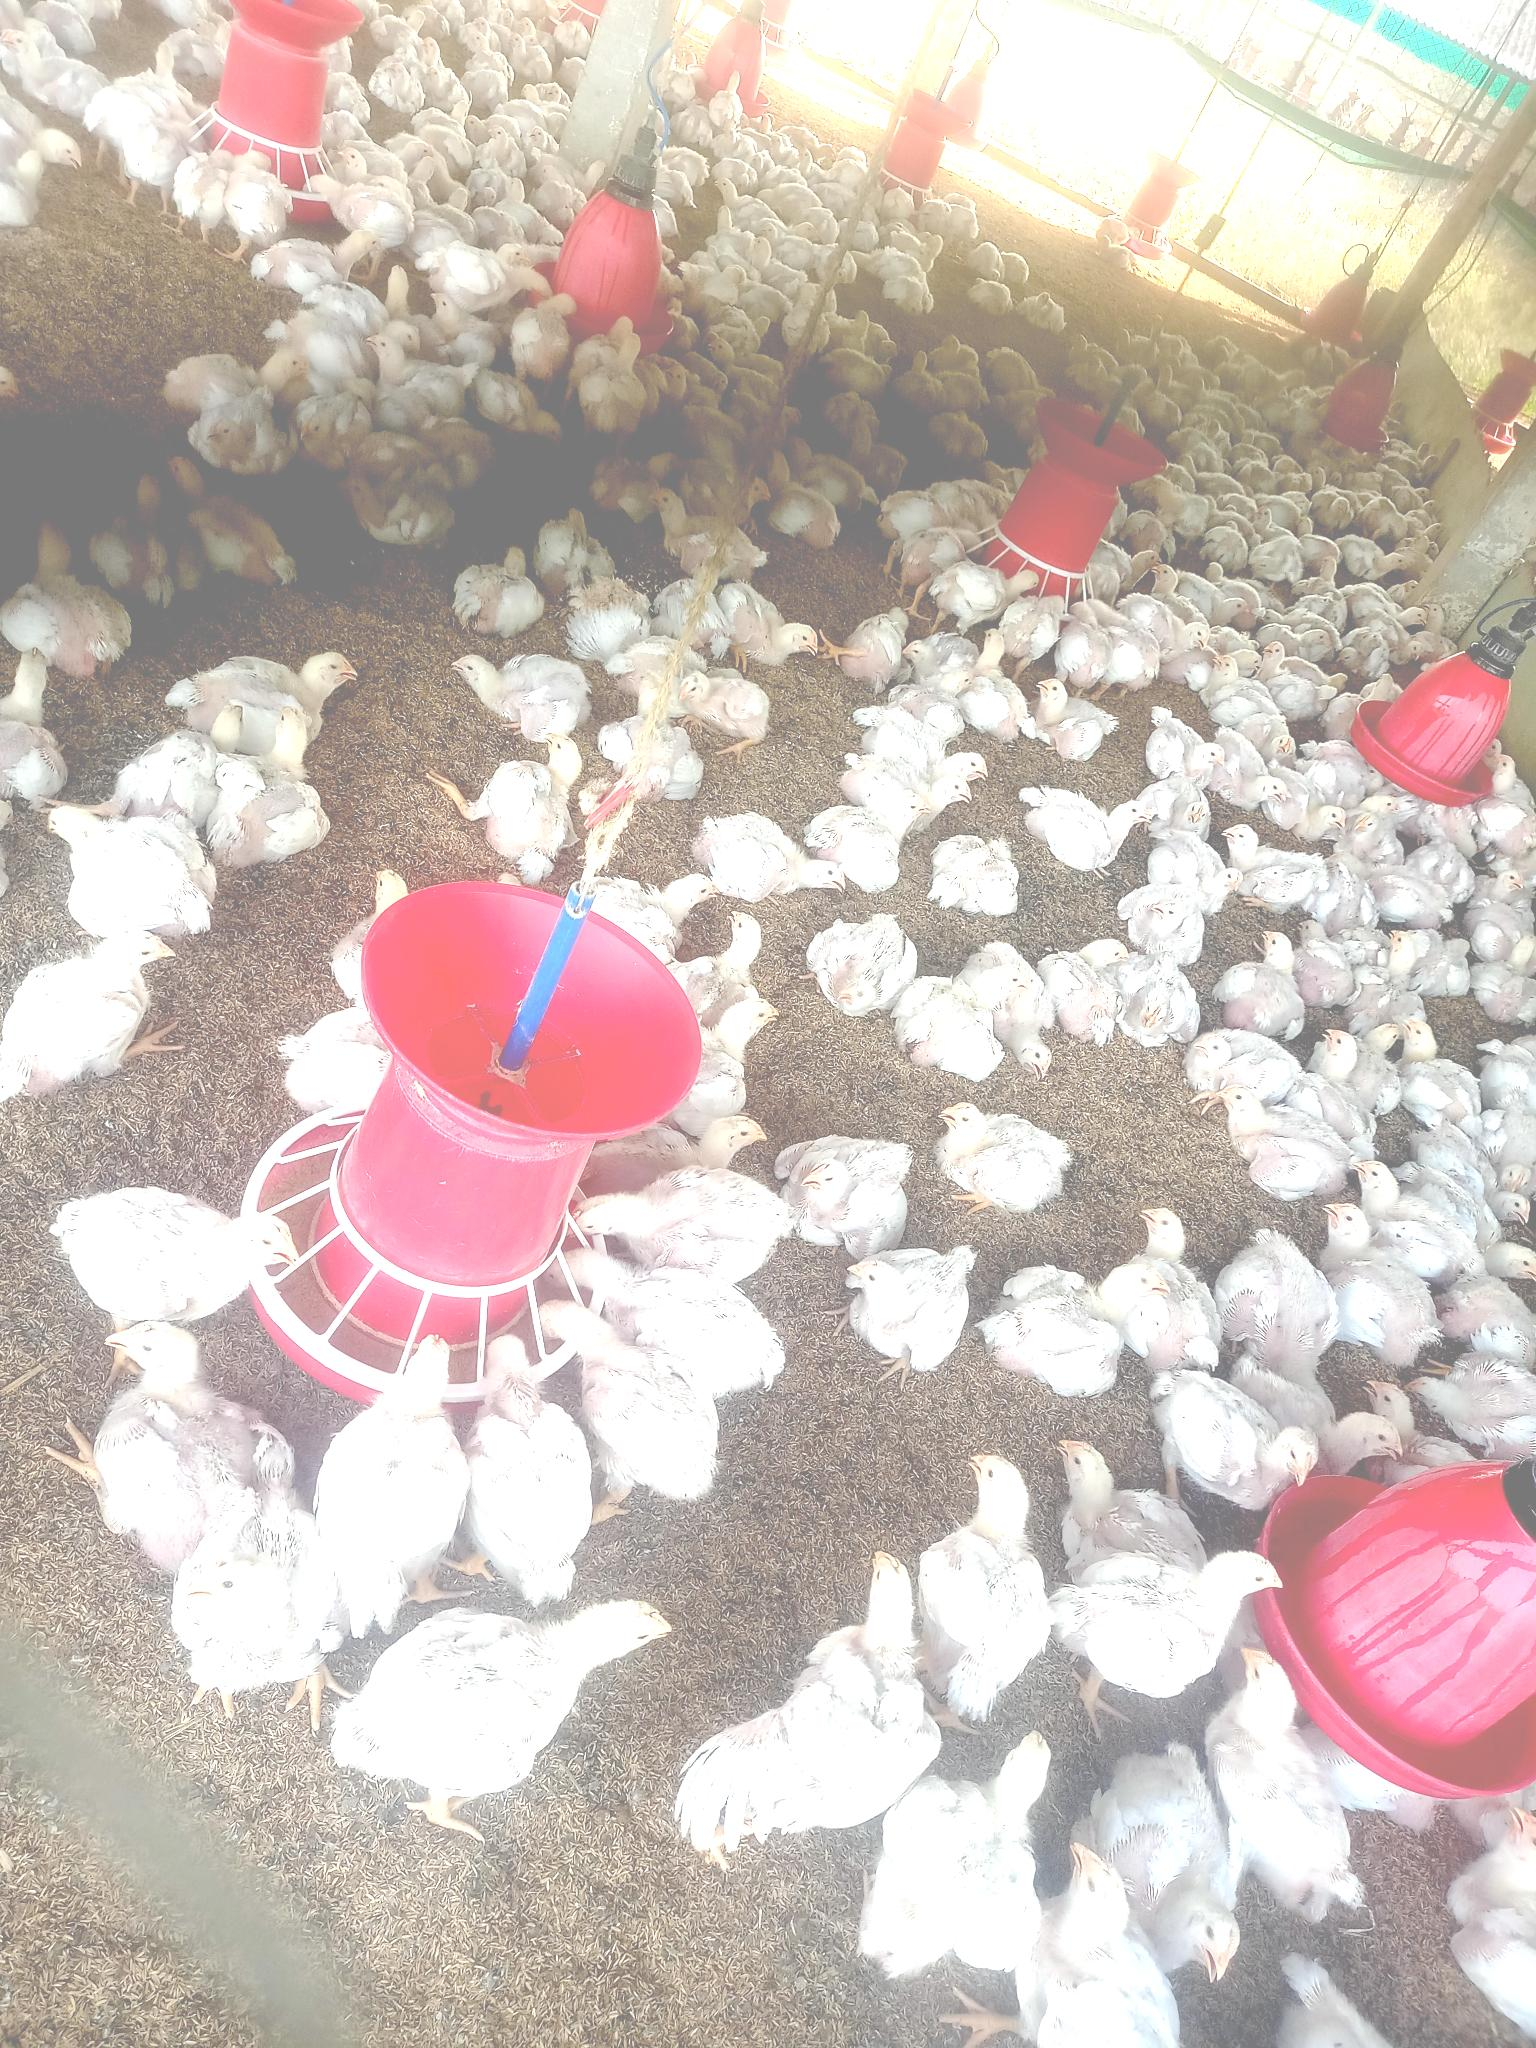Pollos: (337, 1590, 678, 1793), (886, 1724, 1071, 1988), (1104, 1745, 1250, 1992), (95, 1313, 279, 1508), (1058, 1543, 1289, 1693), (336, 1322, 466, 1577), (11, 914, 174, 1108), (921, 1447, 1049, 1671), (553, 1319, 707, 1503), (182, 1493, 326, 1687), (79, 1200, 310, 1309), (581, 1169, 800, 1276), (1317, 1193, 1447, 1359), (1154, 1371, 1317, 1503), (999, 1256, 1170, 1380), (176, 640, 366, 737), (933, 1093, 1075, 1216), (852, 1243, 987, 1369), (474, 731, 597, 864), (771, 1126, 920, 1226), (1210, 1092, 1342, 1200), (1020, 771, 1155, 871), (452, 643, 603, 731), (695, 808, 842, 895), (805, 914, 887, 1030), (933, 827, 1021, 918), (1123, 889, 1210, 964)
